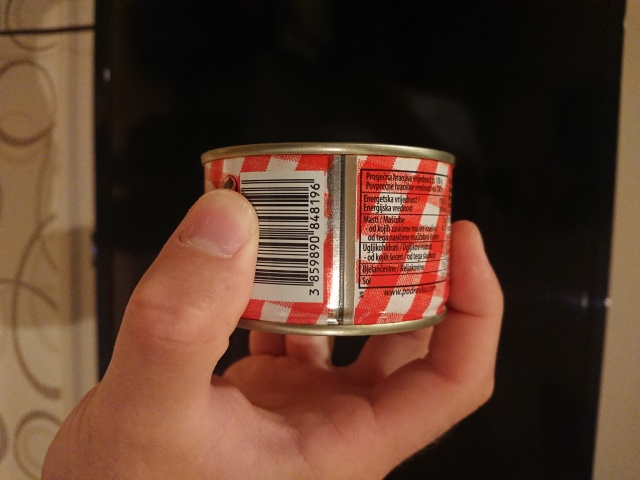Podravka Luncheon Meat 150g: (193, 136, 460, 344)
